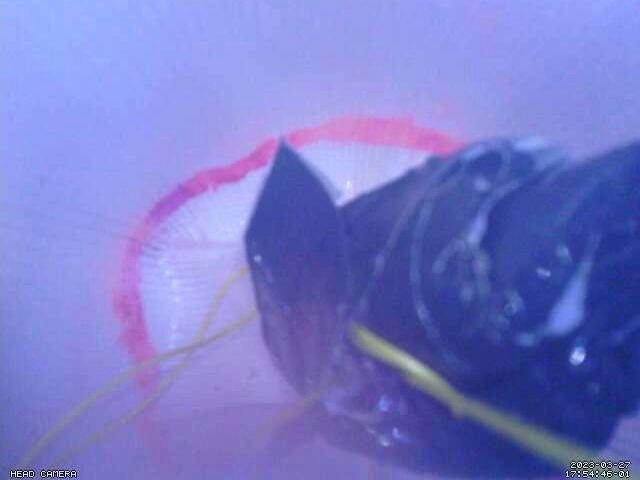head: (111, 113, 466, 480)
